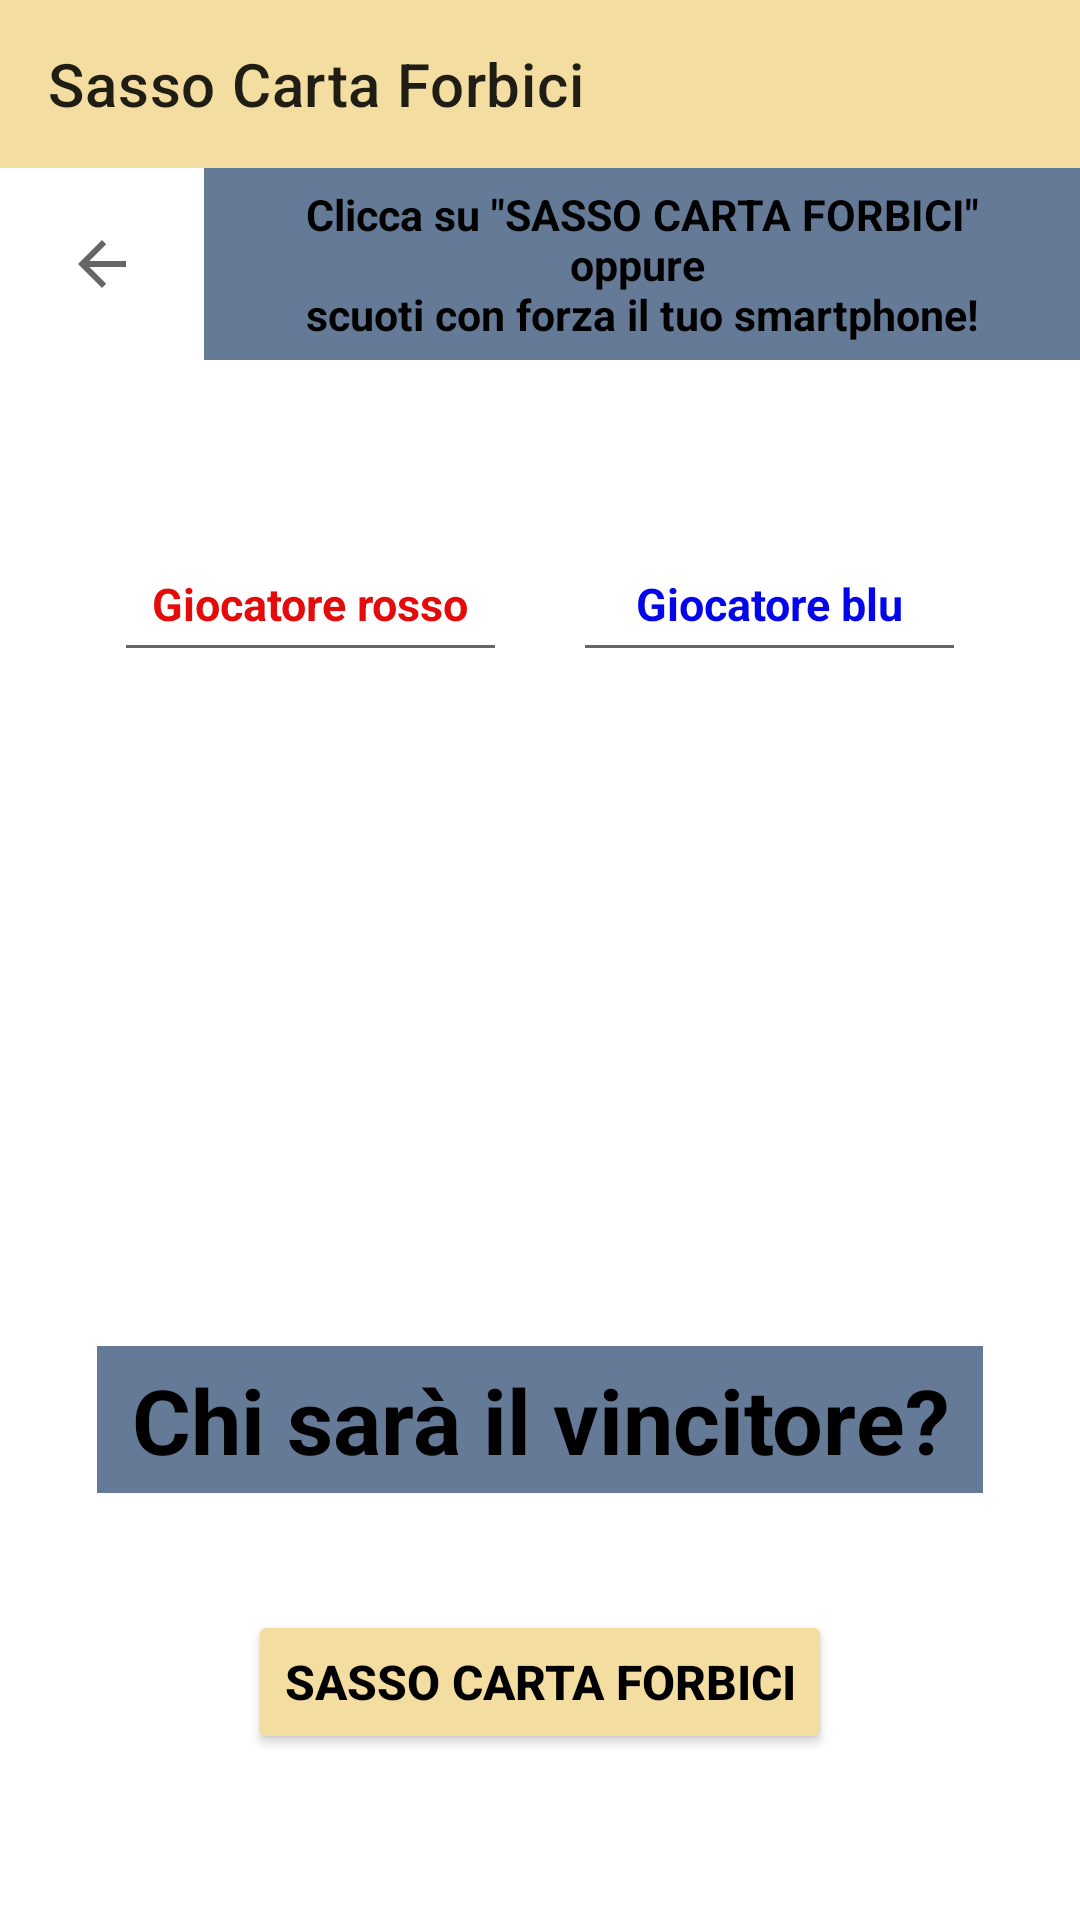

Where icons sit on this 1080×1920 app screen, as (x1, y1, x2, y2):
back: (78, 240, 126, 288)
